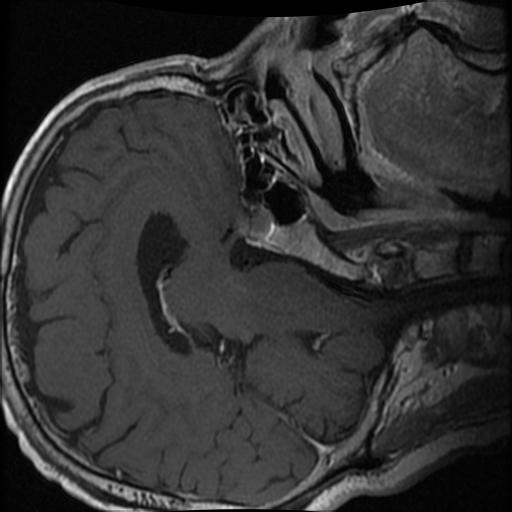pituitary tumour: (245, 204, 273, 243)
